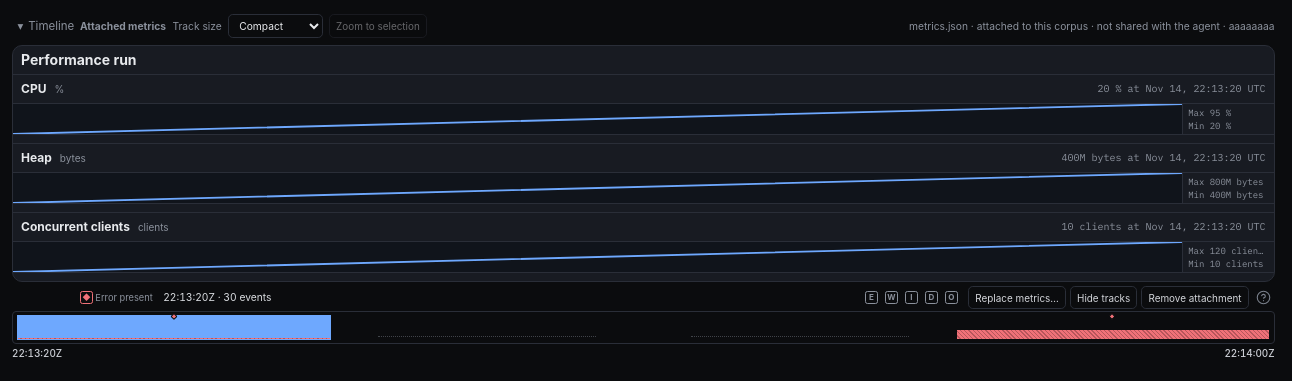
Test: TimelineNavigator › removes only the stored attachment after inline confirmation
The image size is (1292, 381).
Click the button "Remove attachment".
click(1195, 298)  # box x1=1141 y1=286 x2=1249 y2=309
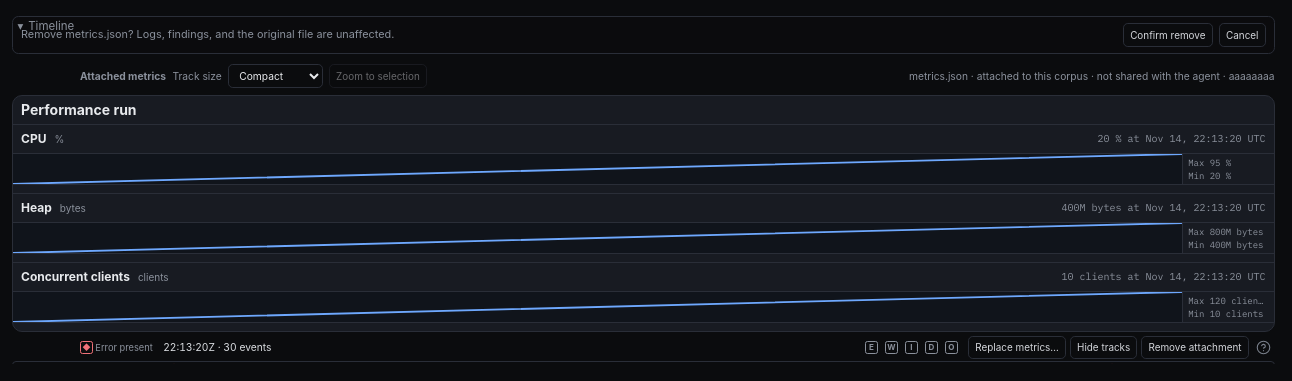
Result: the element named "Confirm metric attachment removal" shows "Logs, findings, and the original file are unaffected" at x1=128 y1=27 x2=394 y2=41
Click the button "Confirm remove".
click(1168, 35)  # box x1=1123 y1=23 x2=1212 y2=47
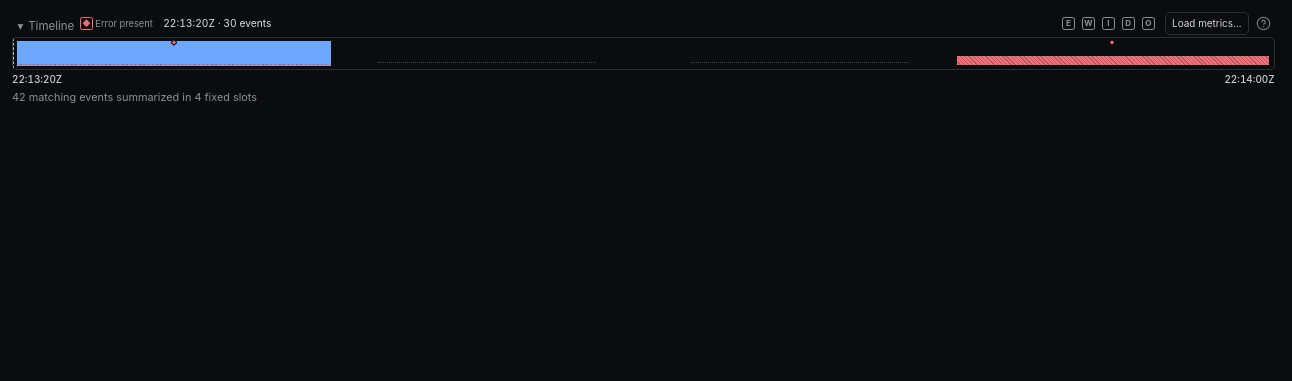
Result: the button with test id "timeline-session-metrics" is gone
